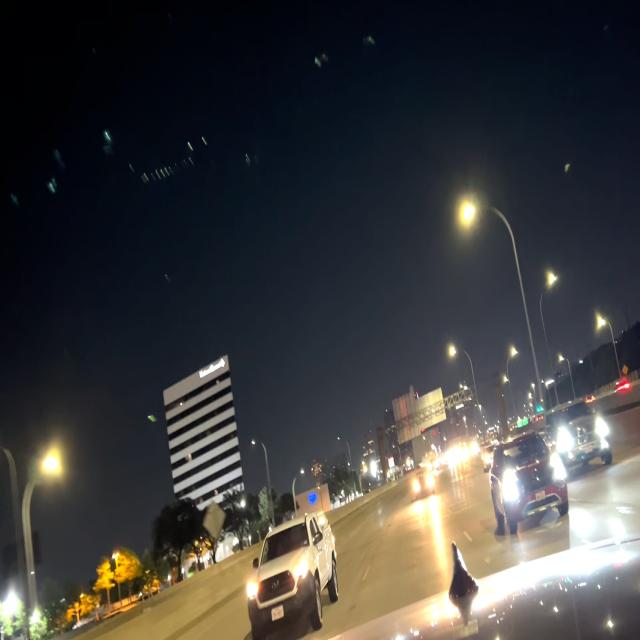back-of-sign: (392, 384, 447, 445), (203, 498, 226, 540)
